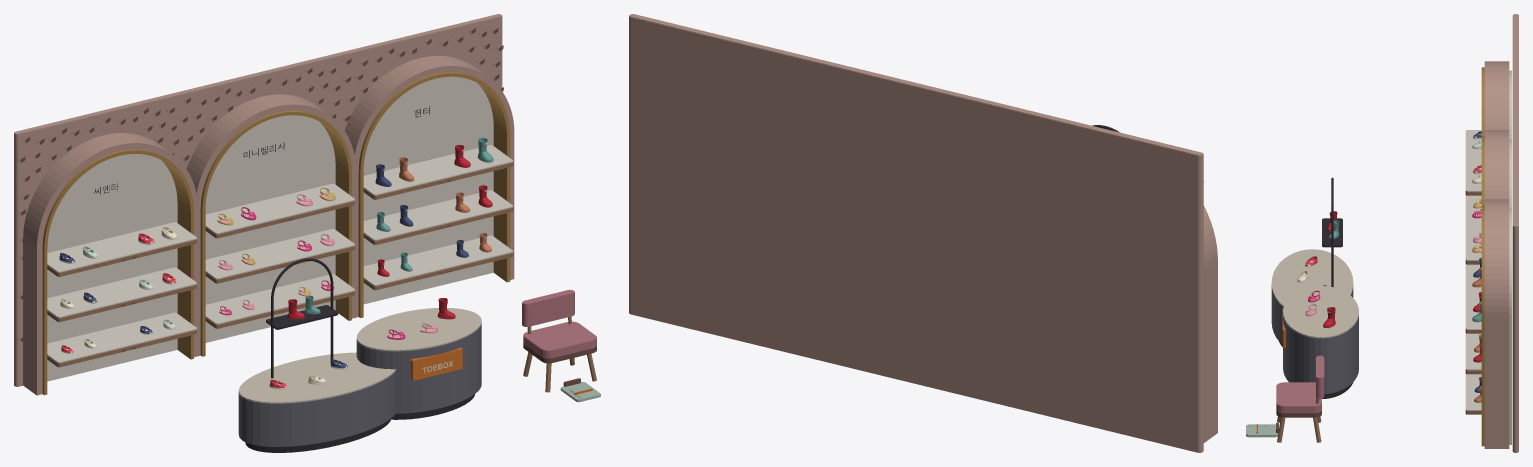
Rendered from gallery.glb.
The picture shows the model from 3 angles, left to right: view 1: azimuth 30°, elevation 25°; view 2: azimuth 150°, elevation 25°; view 3: azimuth 270°, elevation 25°; orthographic projection. The views are drawn at different scales.
Parts seen in each view (by area): view 1: ToeboxFixtures, ToeboxFootwear; view 2: ToeboxFixtures; view 3: ToeboxFixtures, ToeboxFootwear.
Boxes of the visible parts, x1,y1,x2,y2 form: ToeboxFixtures: (14, 14, 600, 452); ToeboxFootwear: (59, 137, 493, 389); ToeboxFixtures: (629, 14, 1217, 452); ToeboxFixtures: (1246, 14, 1518, 452); ToeboxFootwear: (1297, 131, 1481, 402).
Size of the model in its own units: 5.3 by 2.71 by 2.87.
